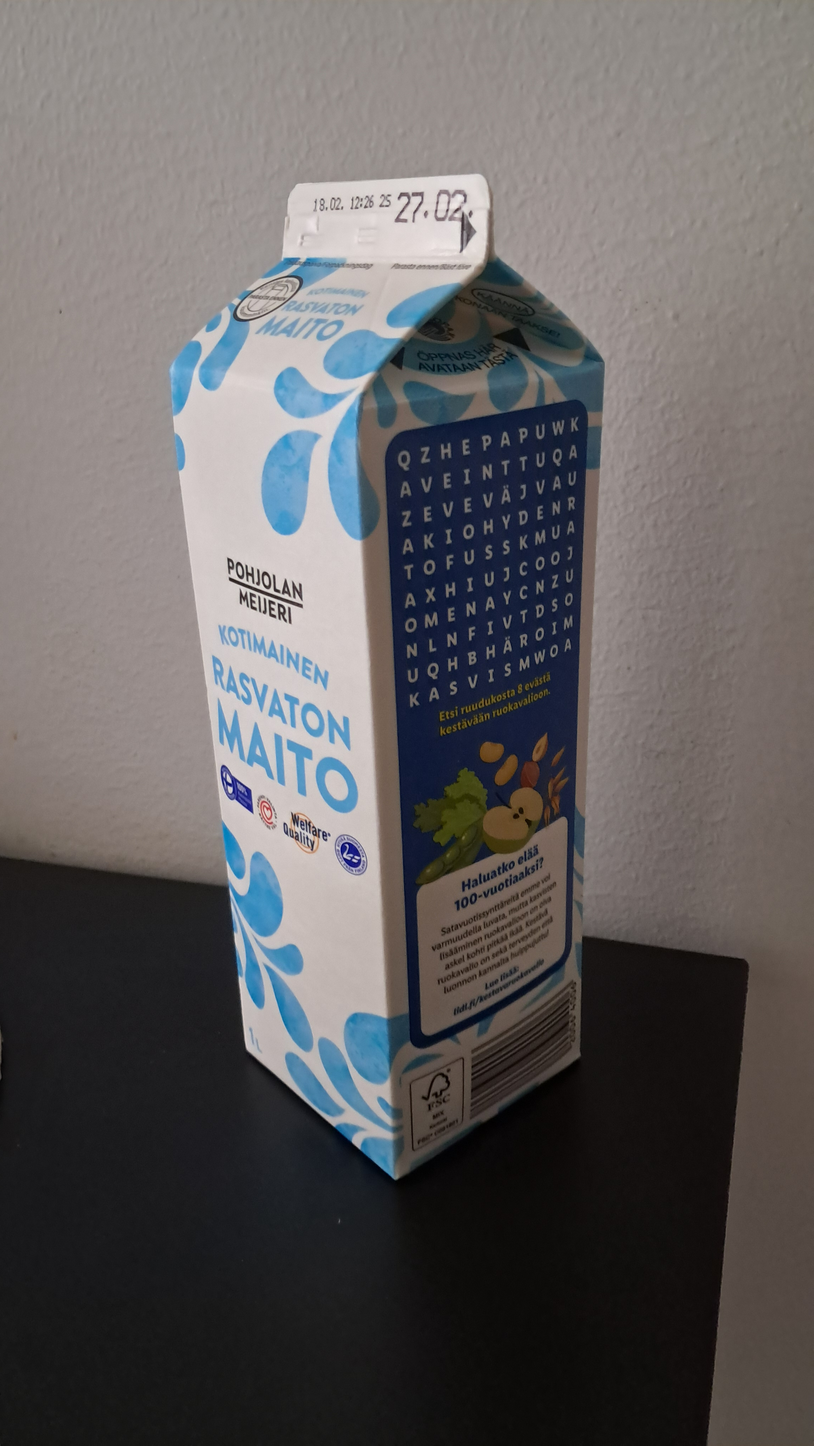Dryckeskartong: (167, 165, 605, 1180)
